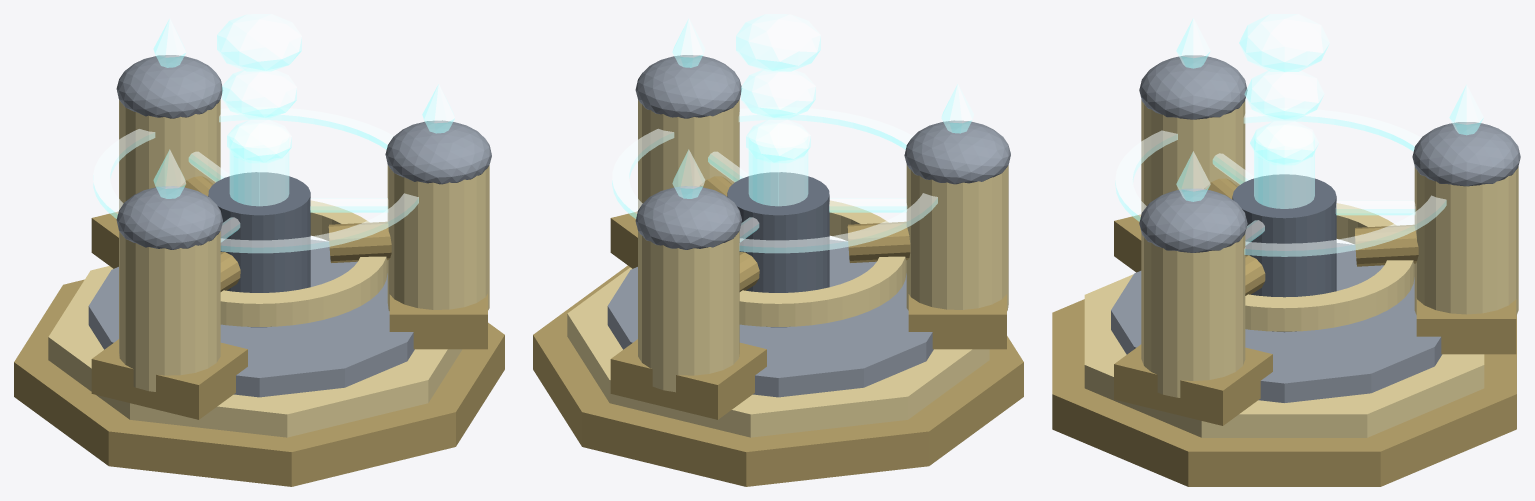
File: helias_assimilator.glb
The picture shows the model from 3 angles, left to right: view 1: azimuth 30°, elevation 25°; view 2: azimuth 150°, elevation 25°; view 3: azimuth 270°, elevation 25°; orthographic projection.
Visible parts, largest first — view 1: foundation_000, floor_002, plinth_001, collector_tower_012, collector_tower_018, gas_vent_003, collector_tower_006, collector_ring_005, circulation_ring_027, tower_foot_017, collector_cap_013, collector_cap_019 (+14 smaller); view 2: foundation_000, floor_002, plinth_001, collector_tower_006, collector_tower_012, gas_vent_003, collector_tower_018, collector_ring_005, circulation_ring_027, tower_foot_011, collector_cap_013, collector_cap_007 (+14 smaller); view 3: foundation_000, floor_002, plinth_001, collector_tower_018, collector_tower_006, gas_vent_003, collector_tower_012, collector_ring_005, circulation_ring_027, tower_foot_023, collector_cap_019, collector_cap_013 (+14 smaller).
Boxes of the visible parts, x1,y1,x2,y2 form: foundation_000: (14,279,504,486); floor_002: (88,239,414,397); plinth_001: (48,266,462,437); collector_tower_012: (119,231,220,391); collector_tower_018: (387,165,489,310); gas_vent_003: (208,172,310,327); collector_tower_006: (119,100,220,209); collector_ring_005: (220,200,387,326); circulation_ring_027: (93,107,418,253); tower_foot_017: (91,339,247,419); collector_cap_013: (116,186,222,249); collector_cap_019: (385,120,491,184); foundation_000: (533,265,1023,486); floor_002: (607,239,933,397); plinth_001: (567,267,989,437); collector_tower_006: (638,231,739,392); collector_tower_012: (906,165,1008,310); gas_vent_003: (727,172,829,327); collector_tower_018: (638,100,739,209); collector_ring_005: (739,200,906,326); circulation_ring_027: (612,107,937,253); tower_foot_011: (610,339,766,419); collector_cap_013: (904,120,1010,184); collector_cap_007: (635,186,741,249); foundation_000: (1052,299,1516,486); floor_002: (1111,243,1442,402); plinth_001: (1084,274,1484,437); collector_tower_018: (1141,233,1245,397); collector_tower_006: (1414,166,1518,315); gas_vent_003: (1232,174,1336,332); collector_tower_012: (1141,99,1245,213); collector_ring_005: (1245,203,1414,331); circulation_ring_027: (1115,108,1446,256); tower_foot_023: (1114,344,1272,425); collector_cap_019: (1139,188,1247,252); collector_cap_013: (1139,55,1247,119).
Size of the model in its own units: 3.97 by 3.48 by 4.
